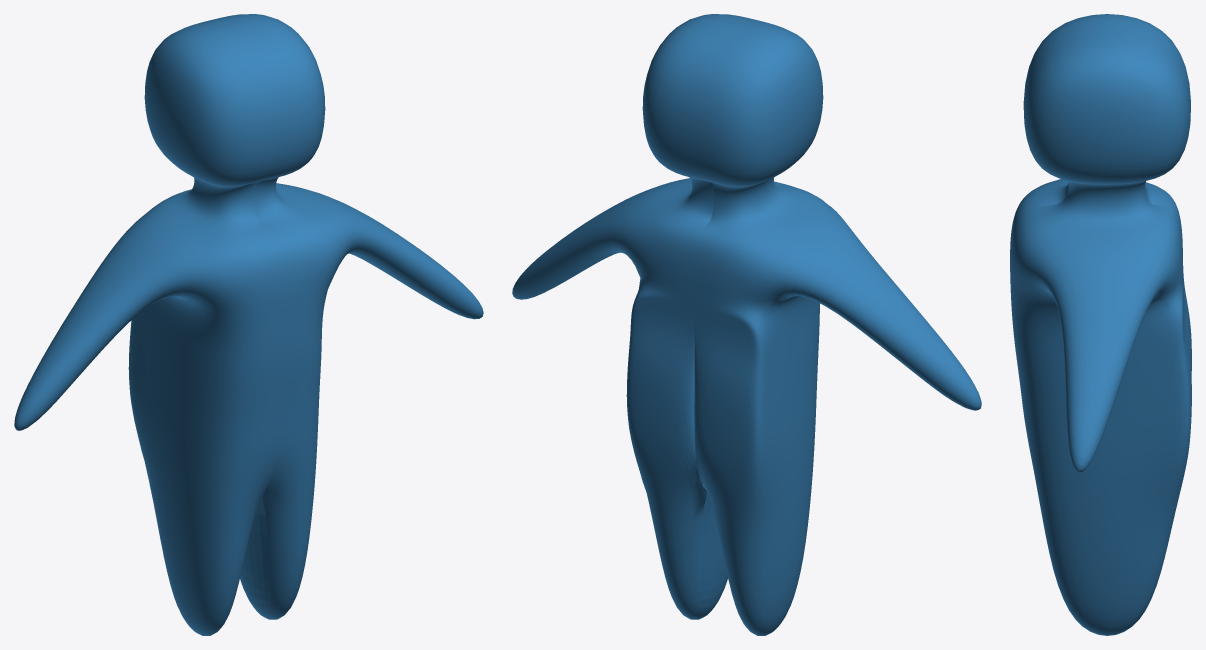
Rendered from captain_flatass.fbx.
3 renders of one model, left to right at view 1: azimuth 30°, elevation 25°; view 2: azimuth 150°, elevation 25°; view 3: azimuth 270°, elevation 25°, orthographic.
Parts seen in each view (by area): view 1: Cube; view 2: Cube; view 3: Cube.
Part boxes in pixels (x1,y1,x2,y2): Cube: (14,14,483,635); Cube: (512,14,981,635); Cube: (1010,14,1191,635).
Size of the model in its own units: 703 by 859 by 241.
